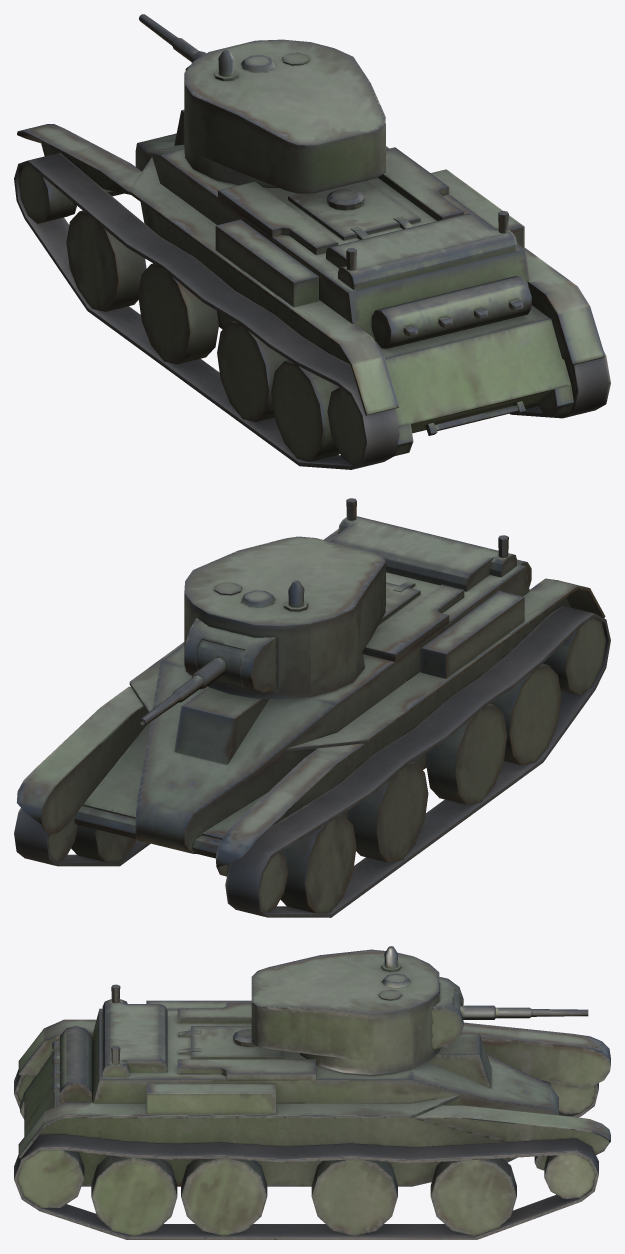
3 views of the same model, one above another, from view 1: azimuth 30°, elevation 25°; view 2: azimuth 150°, elevation 25°; view 3: azimuth 270°, elevation 25° (orthographic). The views are drawn at different scales.
Parts seen in each view (by area): view 1: BT-5 Hull, BT-5 Turret; view 2: BT-5 Hull, BT-5 Turret; view 3: BT-5 Hull, BT-5 Turret.
Part boxes in pixels (x1,y1,x2,y2): BT-5 Hull: (14, 109, 610, 469); BT-5 Turret: (139, 14, 385, 193); BT-5 Hull: (14, 498, 610, 917); BT-5 Turret: (139, 536, 385, 726); BT-5 Hull: (14, 984, 610, 1239); BT-5 Turret: (251, 946, 588, 1074).
Bounding box in the file's own units: 2.21 × 2.39 × 5.65.
